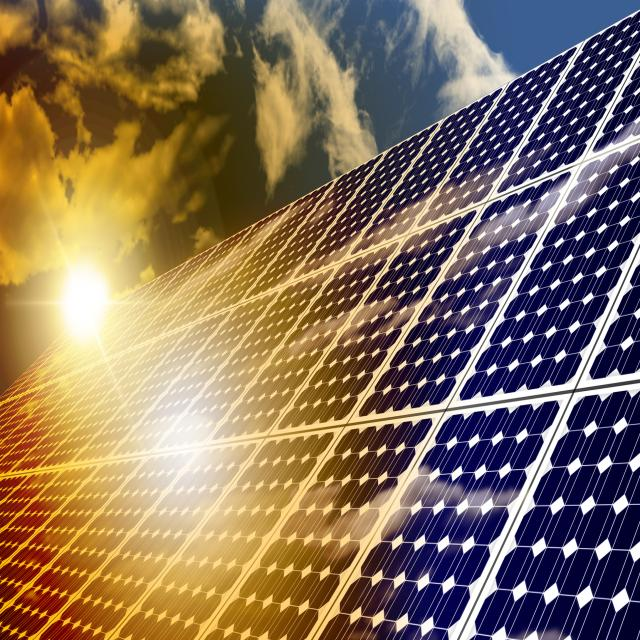clean-solar-panel: (1, 11, 640, 640)
